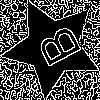B: (27, 22, 84, 74)
